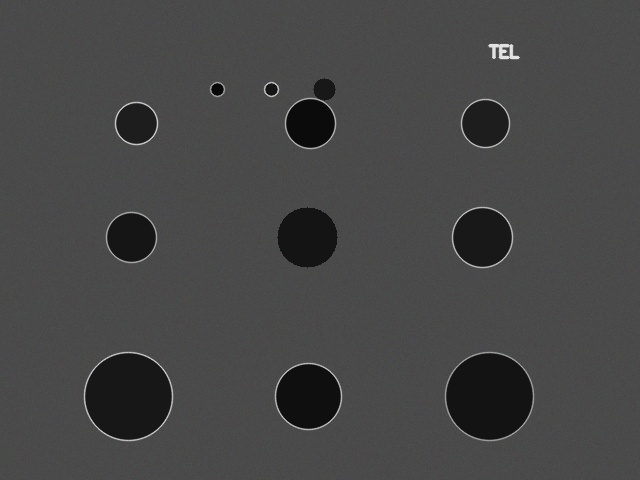hole: (84, 352, 172, 440), (445, 352, 533, 440), (275, 363, 341, 429), (277, 207, 337, 267), (452, 207, 512, 267), (285, 98, 335, 148), (106, 212, 156, 262), (461, 99, 509, 147), (115, 102, 157, 144), (313, 78, 335, 100), (210, 82, 224, 96), (264, 82, 278, 96)
